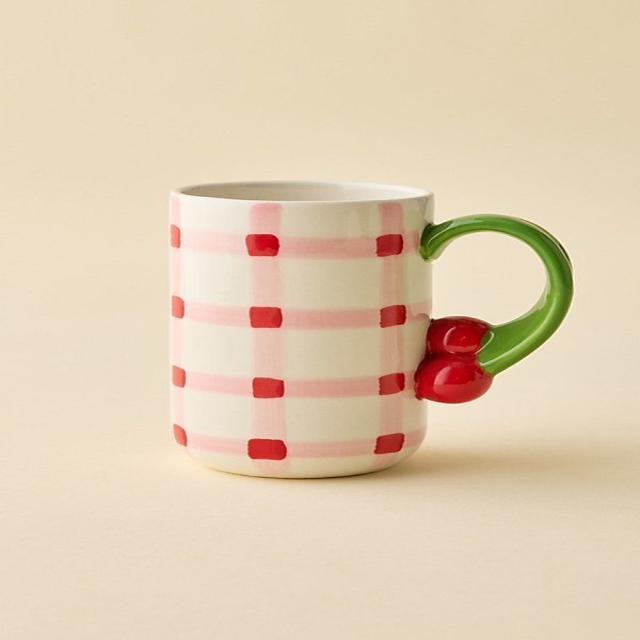glass cup: (165, 180, 576, 480)
